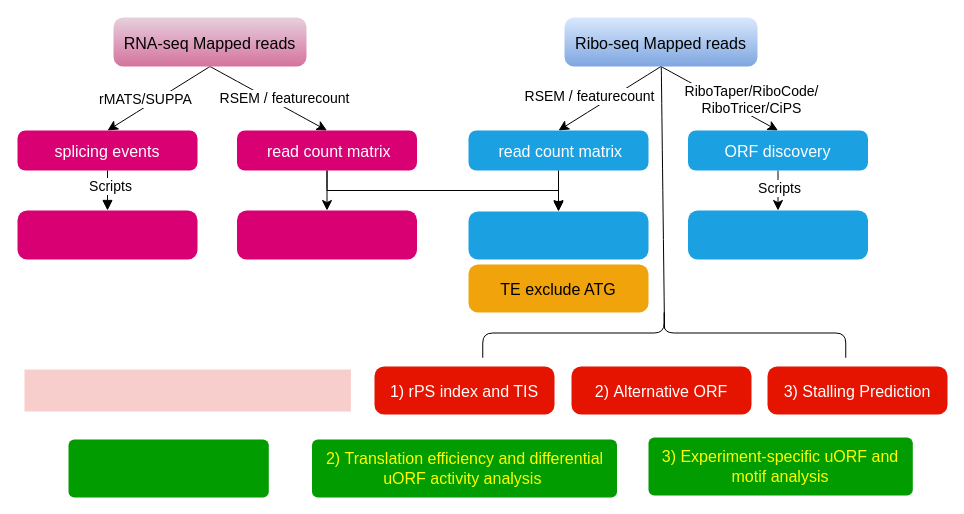
The diagram is 964 pixels wide and 514 high, and some of its shapes have lost their labels. The shapes that lost their labels are listed below. From the top down, each one's box as (x1, y1, x2, y2) in pixels, then its label:
(17, 210, 197, 259): Differential splicing
(236, 210, 416, 259): Differential expression
(468, 211, 648, 259): Differential translation efficiency
(688, 210, 868, 259): Differential patterns per codon or bin
(24, 369, 350, 411): Data Integration
(68, 439, 268, 497): 1) AS-regulated uORFs
